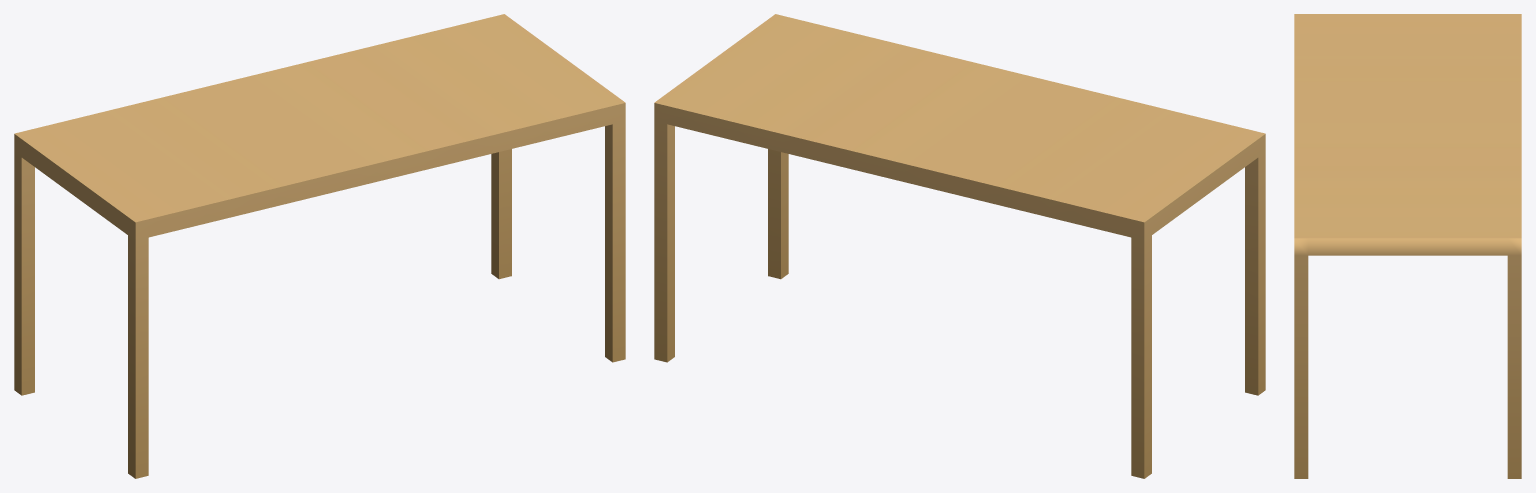
The model's file is Table_1x2.fbx.
3 views of the same model, side by side, from view 1: azimuth 30°, elevation 25°; view 2: azimuth 150°, elevation 25°; view 3: azimuth 270°, elevation 25° (orthographic). The views are drawn at different scales.
Parts seen in each view (by area): view 1: Table_1x2; view 2: Table_1x2; view 3: Table_1x2.
Boxes of the visible parts, x1,y1,x2,y2 form: Table_1x2: (14,14,625,478); Table_1x2: (654,14,1265,478); Table_1x2: (1294,14,1521,478).
Size of the model in its own units: 175 by 87.5 by 75.
